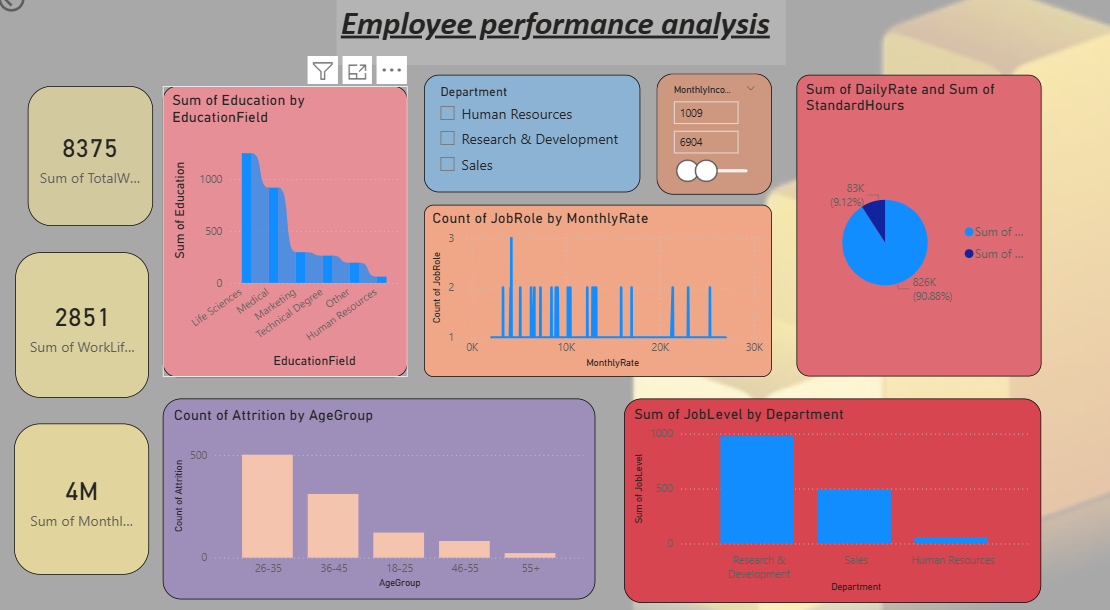

Layout of this report page (visuals, bound fields, positions):
{"tool":"powerbi","page":{"name":"Page 1","canvas":[1280,720],"ordinal":0},"visuals":[{"type":"clusteredColumnChart","fields":{"Category":["HR_Analytics.Department"],"Y":["Sum(HR_Analytics.JobLevel)"]},"box":[720.2,476.9,476.9,233.6],"z":0},{"type":"pieChart","fields":{"Y":["Sum(HR_Analytics.DailyRate)","Sum(HR_Analytics.StandardHours)"]},"box":[917.1,107.6,280,344.8],"z":1000},{"type":"ribbonChart","fields":{"Y":["Sum(HR_Analytics.Education)"],"Category":["HR_Analytics.EducationField"]},"box":[193.2,119.8,280,332.6],"z":2000},{"type":"lineClusteredColumnComboChart","fields":{"Category":["HR_Analytics.AgeGroup"],"Y":["CountNonNull(HR_Analytics.Attrition)"]},"box":[193.2,476.9,494,229.9],"z":3000},{"type":"slicer","fields":{"Values":["HR_Analytics.Department"]},"box":[491.6,107.6,247,134.5],"z":4000},{"type":"actionButton","box":[0,0,100,40],"z":5000},{"type":"slicer","fields":{"Values":["HR_Analytics.MonthlyIncome"]},"box":[756.9,105.2,132.1,138.2],"z":6000},{"type":"lineChart","fields":{"Category":["HR_Analytics.MonthlyRate"],"Y":["CountNonNull(HR_Analytics.JobRole)"]},"box":[491.6,255.6,397.4,196.9],"z":8000},{"type":"textbox","box":[391.3,19.6,513.6,75.8],"z":9000},{"type":"card","fields":{"Values":["Sum(HR_Analytics.MonthlyIncome)"]},"box":[23.2,505,154.1,172.4],"z":9001},{"type":"card","fields":{"Values":["Sum(HR_Analytics.WorkLifeBalance)"]},"box":[24.5,310.6,152.9,166.3],"z":9002},{"type":"card","fields":{"Values":["Sum(HR_Analytics.TotalWorkingYears)"]},"box":[37.9,119.8,143.1,160.2],"z":9003}]}

Visuals, with their boxes in screenshot pixels (x1, y1, x2, y2), scaled from the page's 1280x720 canvas onto the 1110x610 screenshot:
clusteredColumnChart - HR_Analytics.Department x Sum(HR_Analytics.JobLevel): [x1=625, y1=404, x2=1038, y2=602]
pieChart - Sum(HR_Analytics.DailyRate) x Sum(HR_Analytics.StandardHours): [x1=795, y1=91, x2=1038, y2=383]
ribbonChart - Sum(HR_Analytics.Education) x HR_Analytics.EducationField: [x1=168, y1=101, x2=410, y2=383]
lineClusteredColumnComboChart - HR_Analytics.AgeGroup x CountNonNull(HR_Analytics.Attrition): [x1=168, y1=404, x2=596, y2=599]
slicer - HR_Analytics.Department: [x1=426, y1=91, x2=641, y2=205]
actionButton: [x1=0, y1=0, x2=87, y2=34]
slicer - HR_Analytics.MonthlyIncome: [x1=656, y1=89, x2=771, y2=206]
lineChart - HR_Analytics.MonthlyRate x CountNonNull(HR_Analytics.JobRole): [x1=426, y1=217, x2=771, y2=383]
textbox: [x1=339, y1=17, x2=785, y2=81]
card - Sum(HR_Analytics.MonthlyIncome): [x1=20, y1=428, x2=154, y2=574]
card - Sum(HR_Analytics.WorkLifeBalance): [x1=21, y1=263, x2=154, y2=404]
card - Sum(HR_Analytics.TotalWorkingYears): [x1=33, y1=101, x2=157, y2=237]
